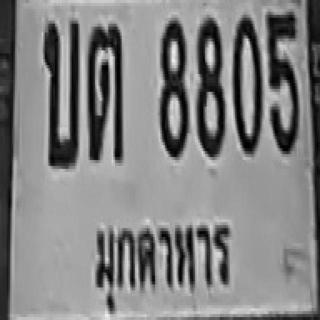A21: (86, 21, 123, 160)
A26: (42, 16, 78, 164)
N00: (232, 12, 262, 154)
N05: (267, 9, 298, 154)
N08: (158, 16, 188, 159), (195, 15, 225, 157)
P26: (87, 208, 233, 320)
